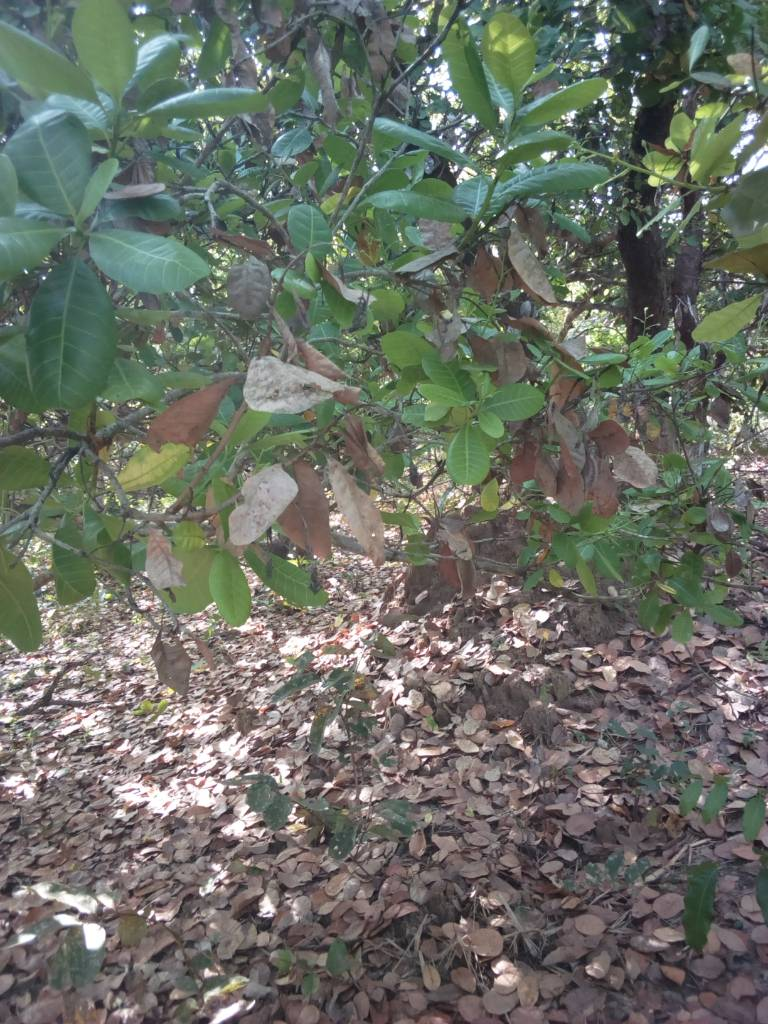Dessèchement des bourgeons: (1, 422, 119, 544)
